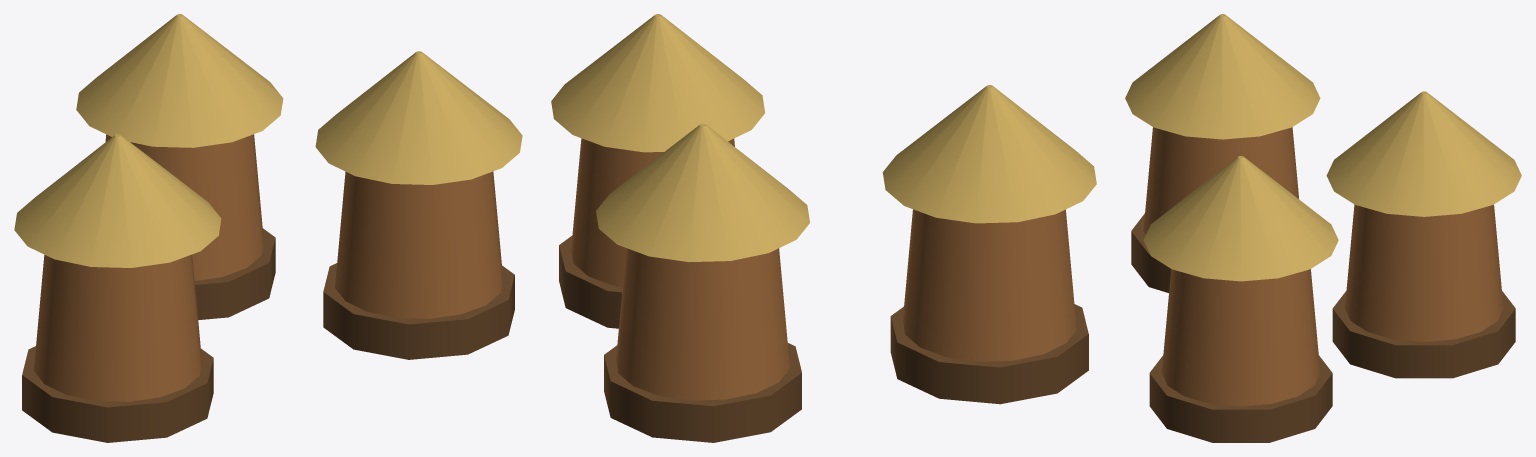
The model's file is granary.glb.
The picture shows the model from 3 angles, left to right: view 1: azimuth 30°, elevation 25°; view 2: azimuth 150°, elevation 25°; view 3: azimuth 270°, elevation 25°; orthographic projection. The views are drawn at different scales.
Parts seen in each view (by area): view 1: Granary; view 2: Granary; view 3: Granary.
Part boxes in pixels (<box>): Granary: <box>14,14,522,442</box>; Granary: <box>551,14,1096,442</box>; Granary: <box>1125,14,1521,442</box>.
Bounding box in the file's own units: 8.7 × 4.5 × 6.5.
